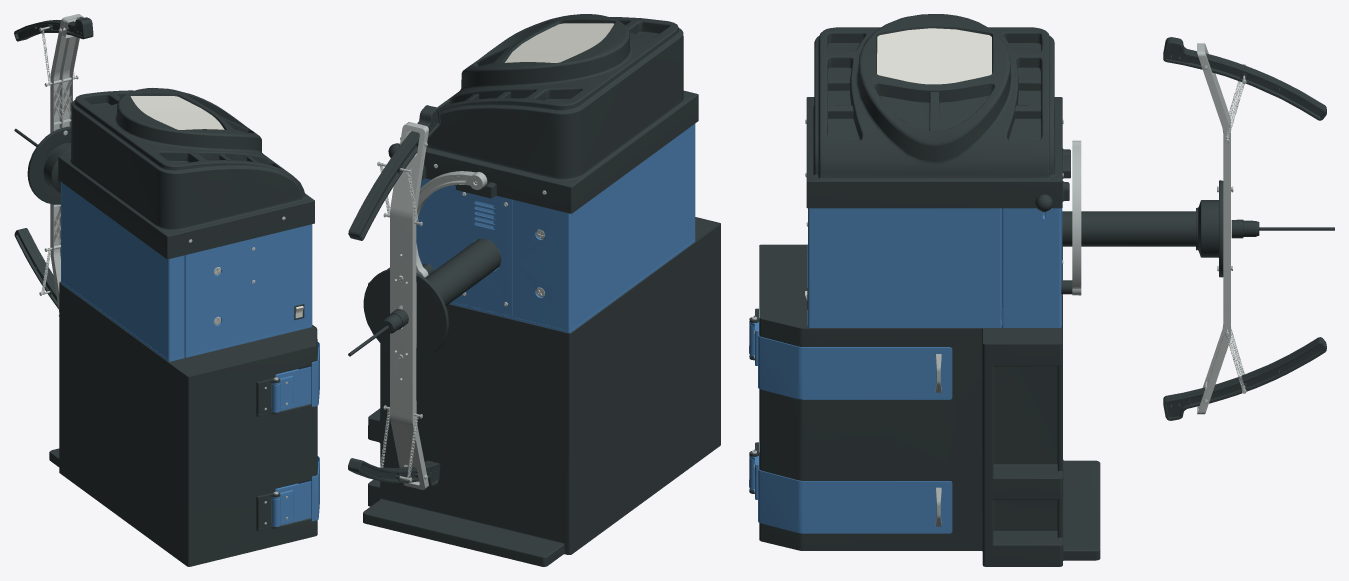
File: testingTool_wheel_balancing_machine_a01.glb
3 views of the same model, side by side, from view 1: azimuth 30°, elevation 25°; view 2: azimuth 150°, elevation 25°; view 3: azimuth 270°, elevation 25° (orthographic). The views are drawn at different scales.
Size of the model in its own units: 0.4837 by 1.06 by 1.19.
